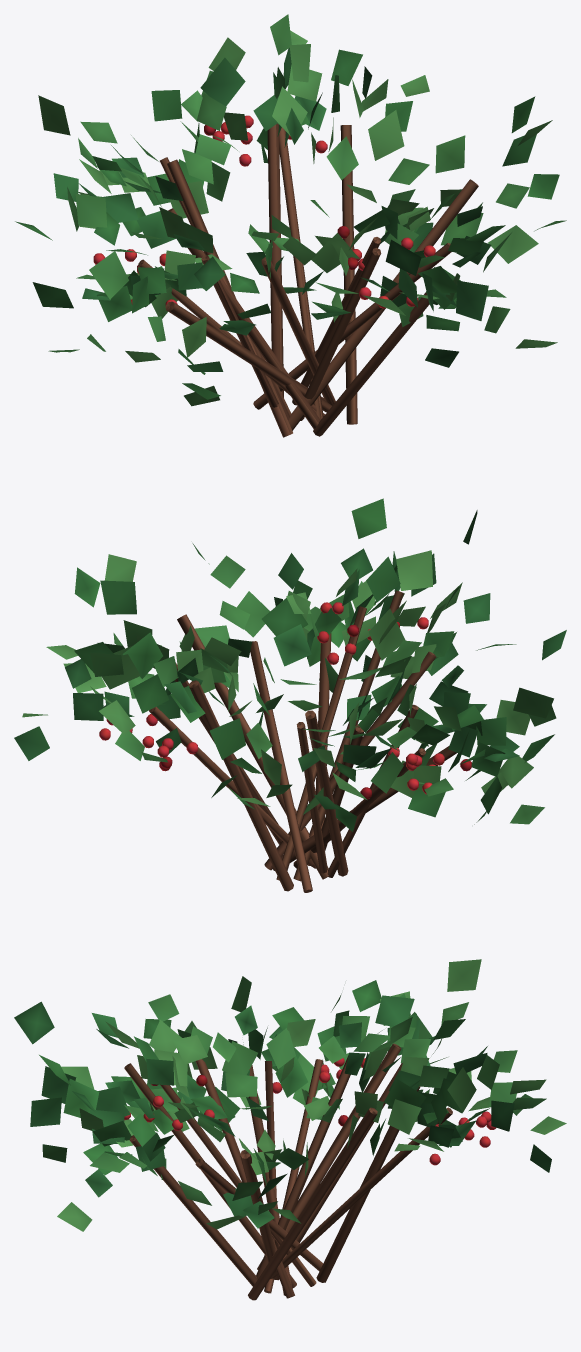
Rendered from mature-lod0.glb.
3 views of the same model, one above another, from view 1: azimuth 30°, elevation 25°; view 2: azimuth 150°, elevation 25°; view 3: azimuth 270°, elevation 25° (orthographic). The views are drawn at different scales.
Parts seen in each view (by area): view 1: redberry-individual-ovate-leaves, redberry-buried-stems-ground-blend-and-fruit; view 2: redberry-individual-ovate-leaves, redberry-buried-stems-ground-blend-and-fruit; view 3: redberry-individual-ovate-leaves, redberry-buried-stems-ground-blend-and-fruit.
Part boxes in pixels (<box>): redberry-individual-ovate-leaves: <box>15,14,566,406</box>; redberry-buried-stems-ground-blend-and-fruit: <box>93,115,478,437</box>; redberry-individual-ovate-leaves: <box>14,498,566,831</box>; redberry-buried-stems-ground-blend-and-fruit: <box>99,590,471,892</box>; redberry-individual-ovate-leaves: <box>14,959,566,1231</box>; redberry-buried-stems-ground-blend-and-fruit: <box>124,1043,496,1300</box>.
Size of the model in its own units: 3.52 by 2.07 by 3.85.
